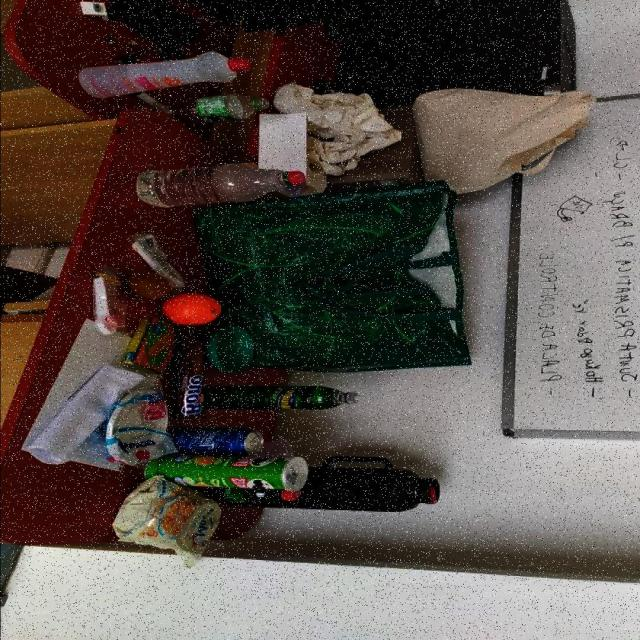Bag: (194, 181, 464, 375), (410, 85, 596, 194)
Bowl: (206, 325, 254, 372)
Cleaner: (199, 384, 358, 410)
Cookies: (170, 339, 206, 420)
CornFlakes: (110, 471, 222, 552)
Guarana: (187, 488, 302, 505)
Kiwi: (129, 272, 170, 298)
Orange: (162, 294, 222, 325)
Plate: (97, 389, 169, 467)
Pringles: (145, 455, 308, 487)
Sponge: (120, 316, 178, 374)
Tonic: (168, 426, 260, 454)
